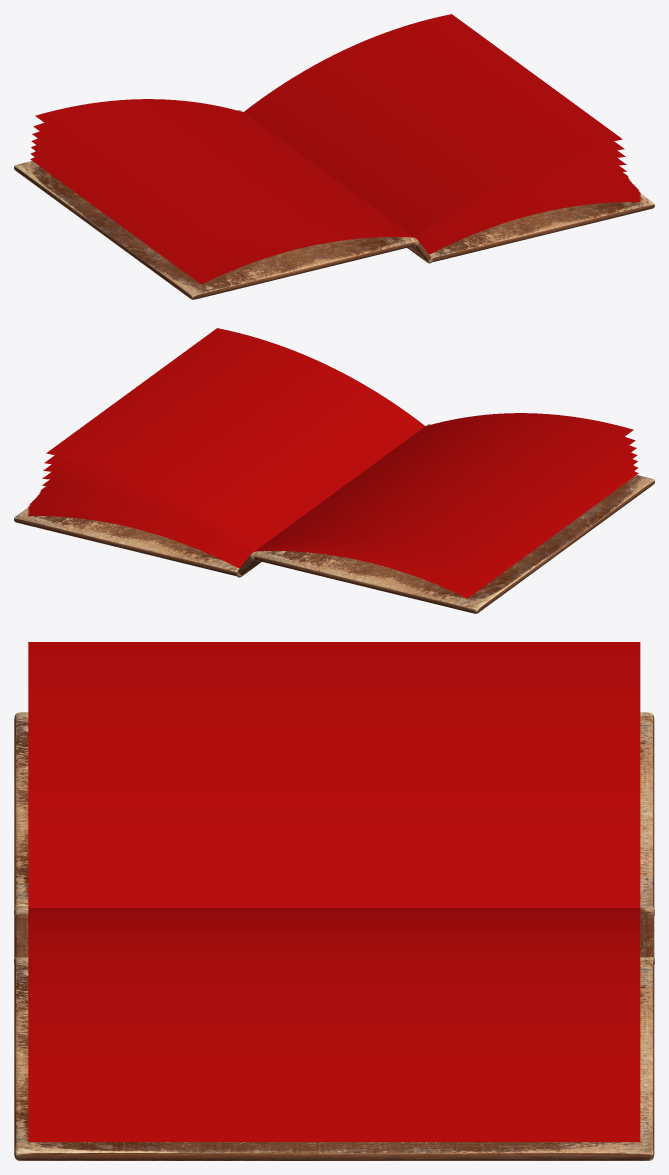
Rendered from Book.fbx.
3 views of the same model, one above another, from view 1: azimuth 30°, elevation 25°; view 2: azimuth 150°, elevation 25°; view 3: azimuth 270°, elevation 25° (orthographic). The views are drawn at different scales.
Parts seen in each view (by area): view 1: Plane019, Plane015, Box002, Plane016, Plane027, Plane017, Plane018, Plane028, Plane026, Plane020, Plane024, Plane025 (+5 smaller); view 2: Plane019, Plane015, Box002, Plane016, Plane027, Plane017, Plane018, Plane028, Plane026, Plane020, Plane024, Plane025 (+5 smaller); view 3: Plane015, Plane019, Box002, Plane020, Plane025, Plane024, Plane021, Plane023, Plane056, Plane029, Plane030, Plane031 (+22 smaller).
Boxes of the visible parts, box(x1,y1,x2,y2) form: Plane019: box(243, 14, 622, 237); Plane015: box(35, 99, 413, 240); Box002: box(14, 110, 654, 299); Plane016: box(33, 122, 411, 251); Plane027: box(32, 131, 410, 259); Plane017: box(31, 138, 409, 266); Plane018: box(30, 151, 413, 278); Plane028: box(31, 145, 411, 272); Plane026: box(30, 157, 408, 284); Plane020: box(417, 141, 624, 235); Plane024: box(419, 158, 626, 234); Plane025: box(419, 150, 625, 234); Plane019: box(46, 328, 425, 551); Plane015: box(255, 413, 633, 554); Box002: box(14, 424, 654, 613); Plane016: box(257, 436, 635, 565); Plane027: box(258, 445, 636, 573); Plane017: box(259, 452, 637, 580); Plane018: box(255, 465, 638, 592); Plane028: box(257, 459, 637, 586); Plane026: box(260, 471, 638, 598); Plane020: box(44, 455, 251, 549); Plane024: box(42, 472, 249, 548); Plane025: box(43, 464, 249, 548); Plane015: box(28, 642, 640, 907); Plane019: box(28, 908, 640, 1005); Box002: box(14, 712, 654, 1160); Plane020: box(28, 1005, 640, 1025); Plane025: box(28, 1025, 640, 1040); Plane024: box(28, 1040, 640, 1055); Plane021: box(28, 1056, 640, 1068); Plane023: box(28, 1069, 640, 1076); Plane056: box(28, 1135, 640, 1139); Plane029: box(28, 1124, 640, 1127); Plane030: box(28, 1121, 640, 1124); Plane031: box(28, 1117, 640, 1120).
Size of the model in its own units: 172 by 26.4 by 115.
